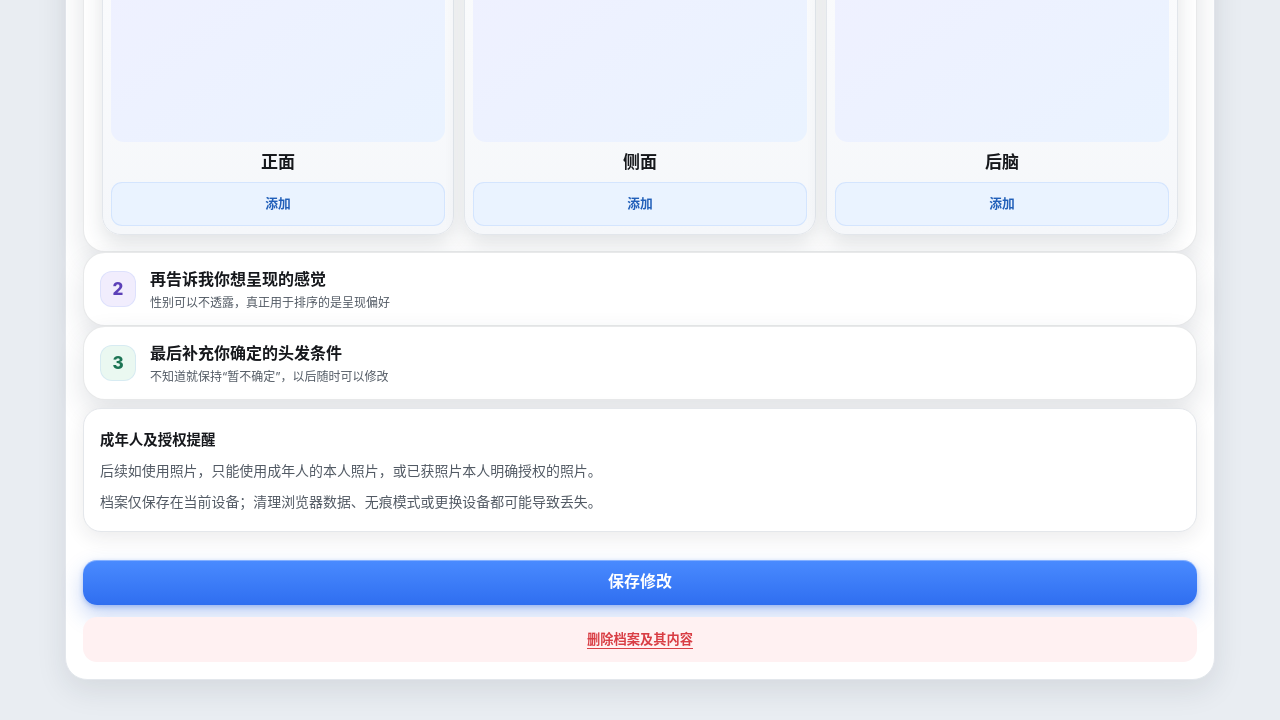
ArchiveProfileView poll-aware deletion › keeps the profile and shows an alert when PollDraft cleanup fails
(page scrolled)
Click the button "删除档案及其内容". click: x=640, y=640
box: 83,617 -> 1197,662
(page scrolled)
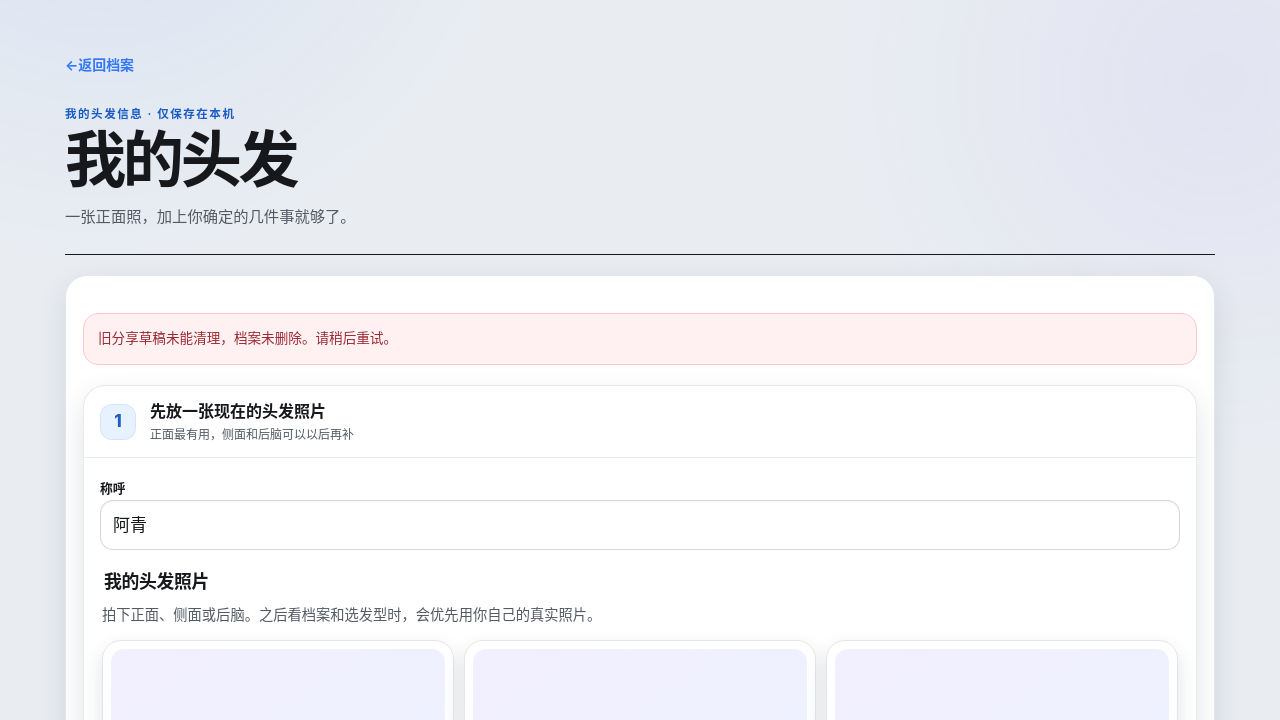
Check: the message reads "旧分享草稿未能清理，档案未删除。请稍后重试。", box 98,330 -> 397,346
